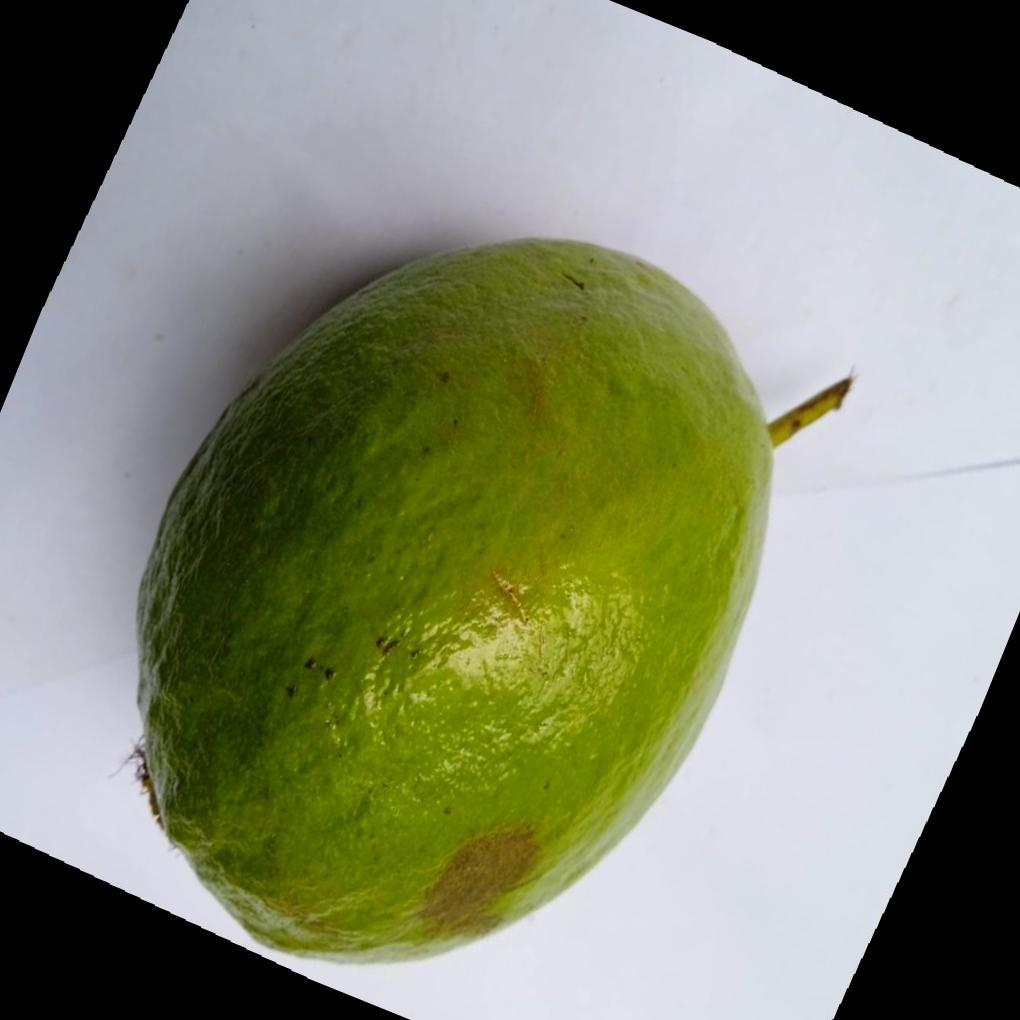FreshGuava: (132, 239, 789, 967)
